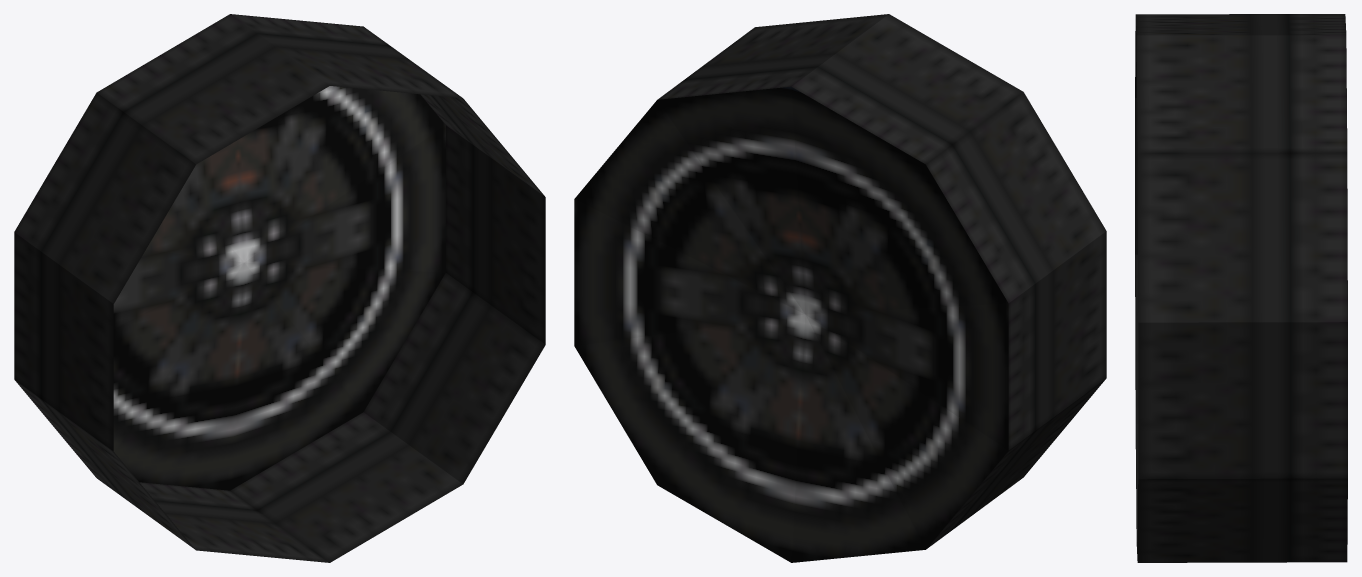
Rendered from bmw_ss.obj.
3 renders of one model, left to right at view 1: azimuth 30°, elevation 25°; view 2: azimuth 150°, elevation 25°; view 3: azimuth 270°, elevation 25°, orthographic. The views are drawn at different scales.
Visible parts, largest first — view 1: mesh_3.007; view 2: mesh_3.007; view 3: mesh_3.007.
Part boxes in pixels (<box>): mesh_3.007: <box>14,14,545,562</box>; mesh_3.007: <box>574,14,1106,562</box>; mesh_3.007: <box>1135,14,1347,562</box>.
Bounding box in the file's own units: 0.4891 × 0.5135 × 0.1957.
Materials: 1 (1 with a texture image).
